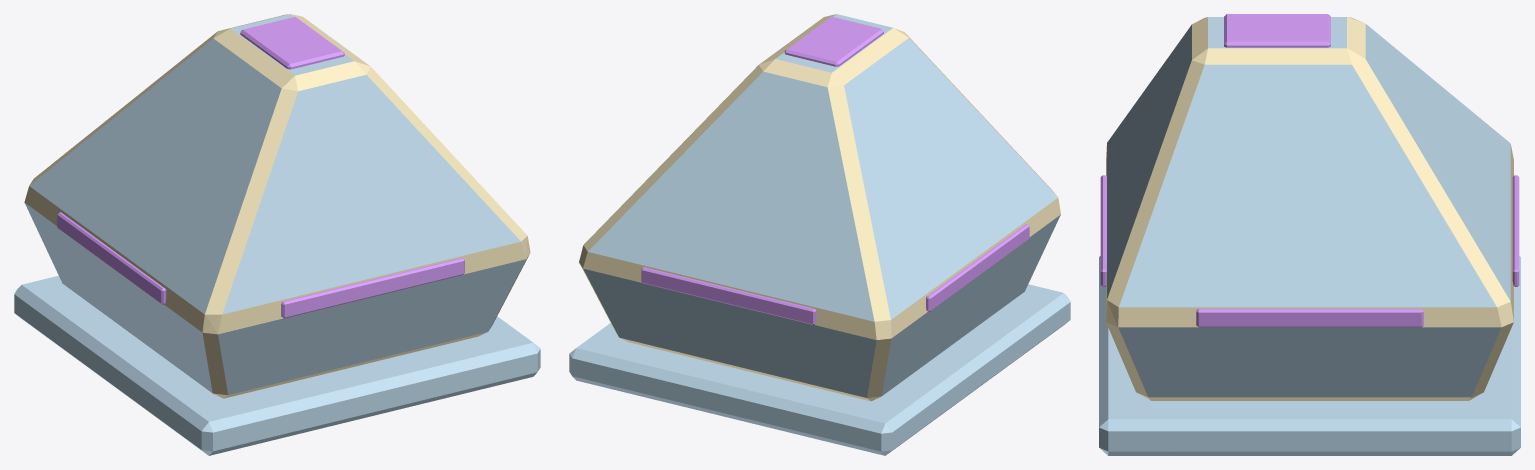
The model's file is R4X_Stealth_LOD1.glb.
3 views of the same model, side by side, from view 1: azimuth 30°, elevation 25°; view 2: azimuth 150°, elevation 25°; view 3: azimuth 270°, elevation 25° (orthographic). The views are drawn at different scales.
Visible parts, largest first — view 1: R4X_Stealth_LOD1; view 2: R4X_Stealth_LOD1; view 3: R4X_Stealth_LOD1.
Part boxes in pixels (x1,y1,x2,y2): R4X_Stealth_LOD1: (14,14,540,455); R4X_Stealth_LOD1: (569,14,1070,455); R4X_Stealth_LOD1: (1099,14,1520,455).
Size of the model in its own units: 0.52 by 0.4665 by 0.52.
